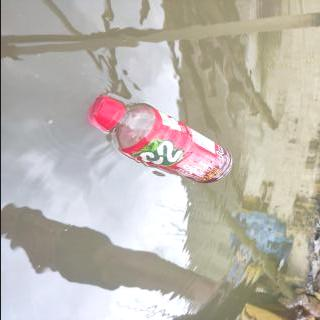bottle: (84, 90, 236, 186)
